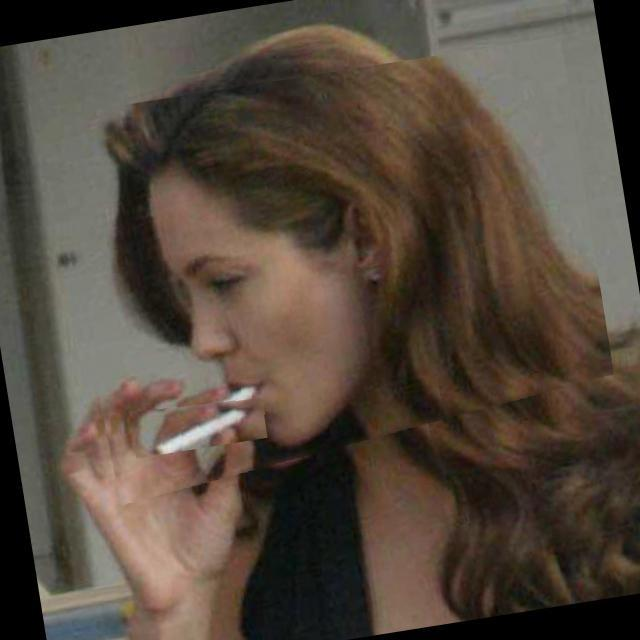cigarette: (130, 391, 268, 458)
